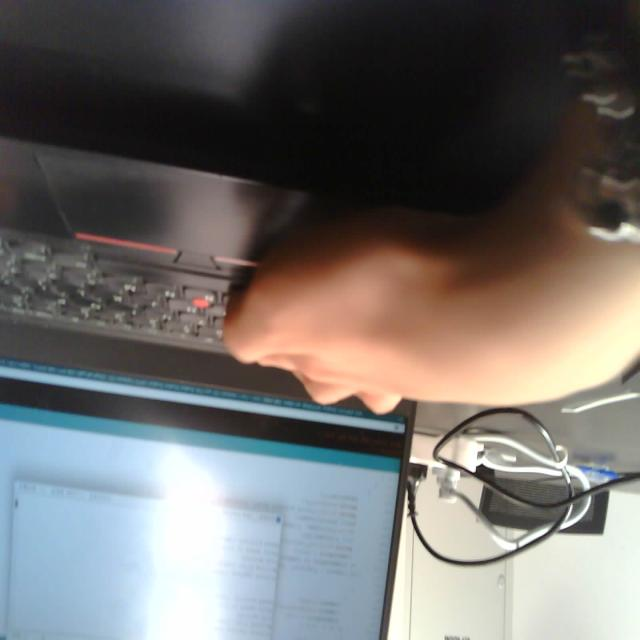keyboard-with-hands: (0, 137, 430, 387)
